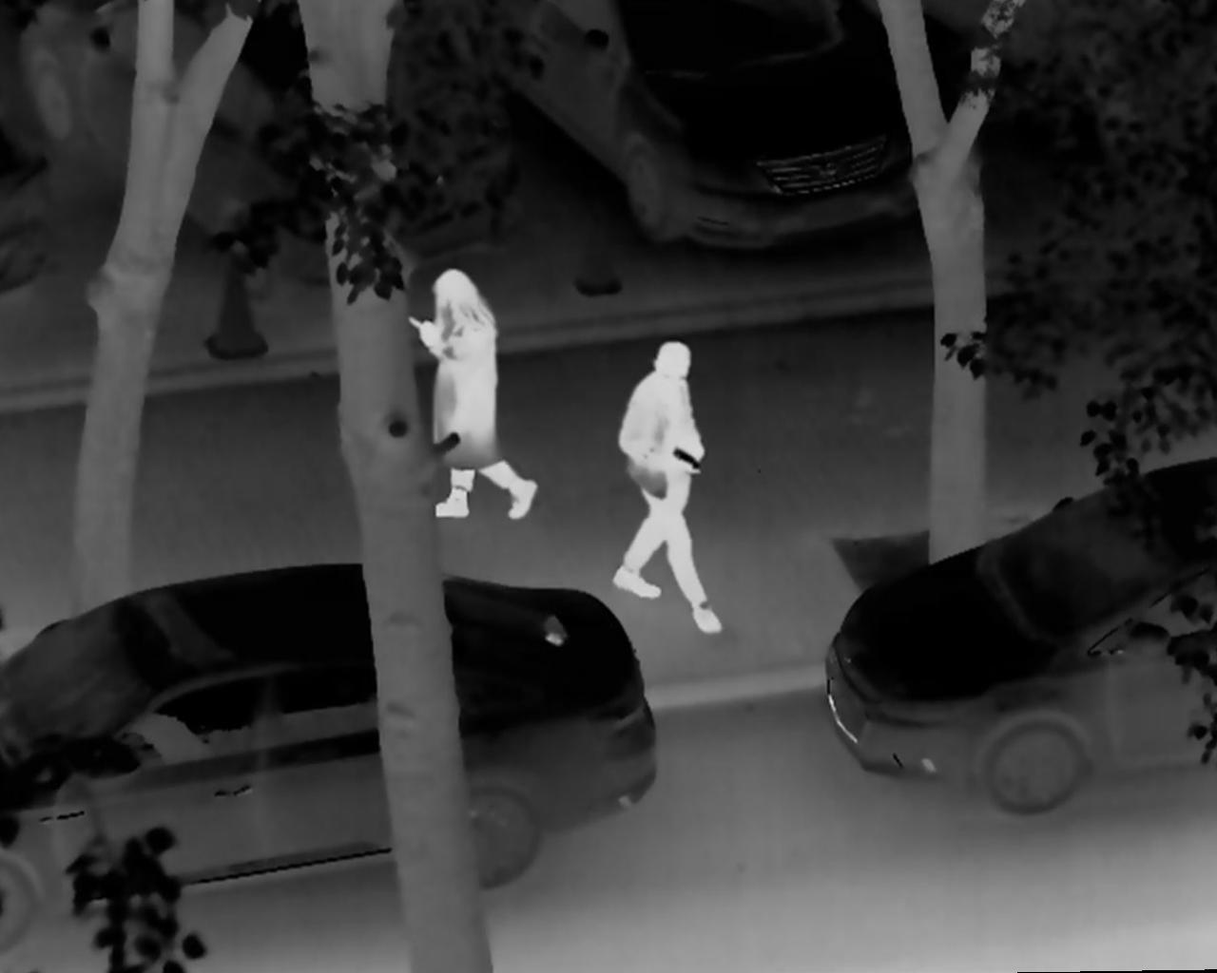person: (401, 261, 538, 523), (606, 337, 724, 635)
